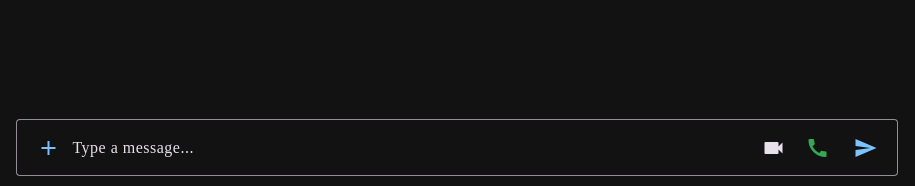
Test: ChatPanelComponent › disabled features › should have the more_vert button disabled
Note: Open the actions menu
Click the button with class "input-prefix-menu-btn" at [48, 148], box left=28, top=128, right=68, bottom=168
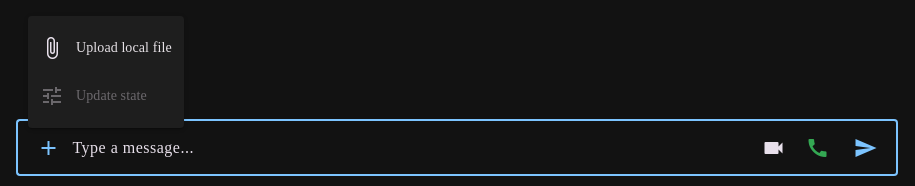
Expected: the menu item "Update state" is disabled, left=28, top=72, right=184, bottom=120
